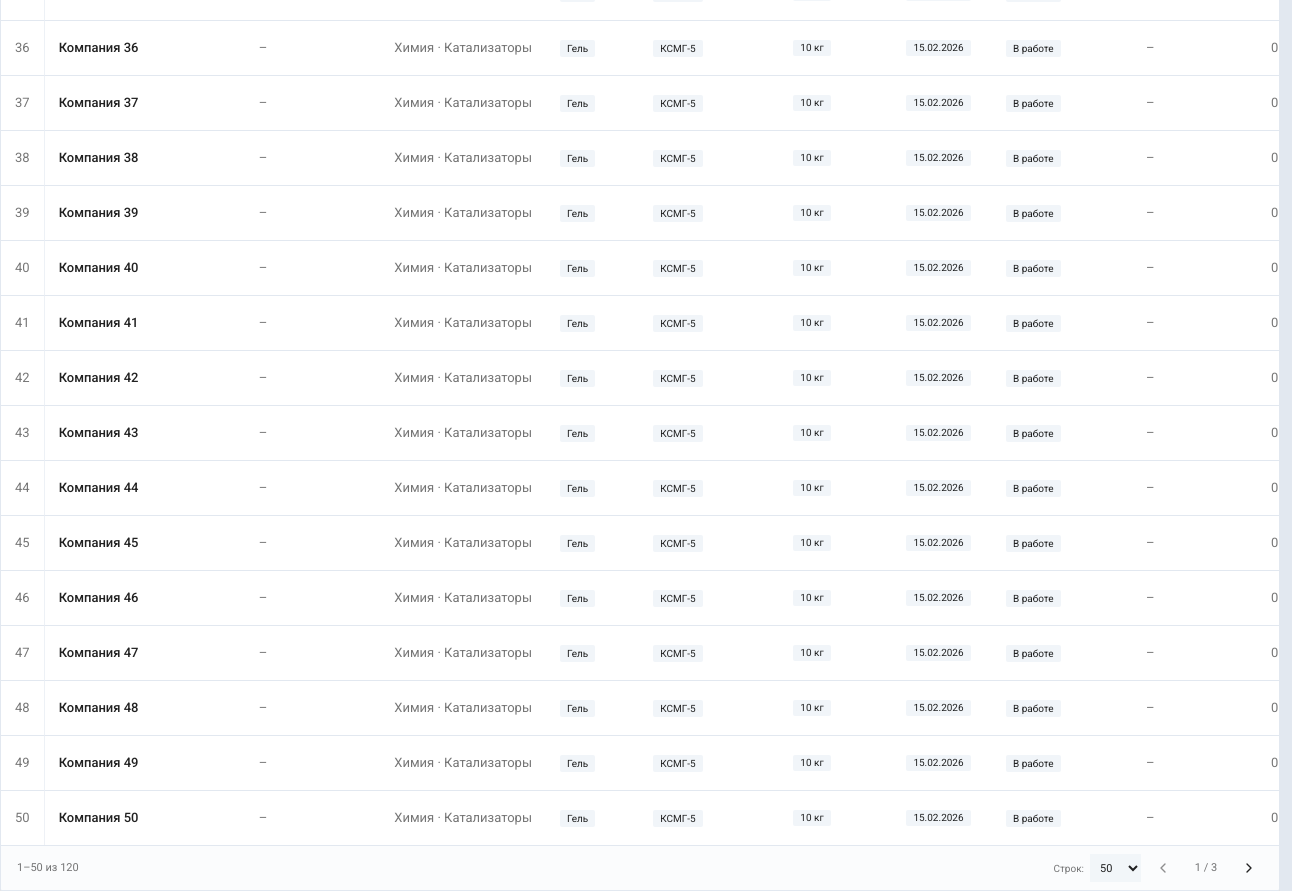
Test: Samples Client Pagination & Invariants › navigates to next page with continuous row numbering (51..100)
This screenshot has width=1292, height=891.
(page scrolled)
Click the button named "Следующая страница" at [1249, 868], box [1235,854,1263,882]
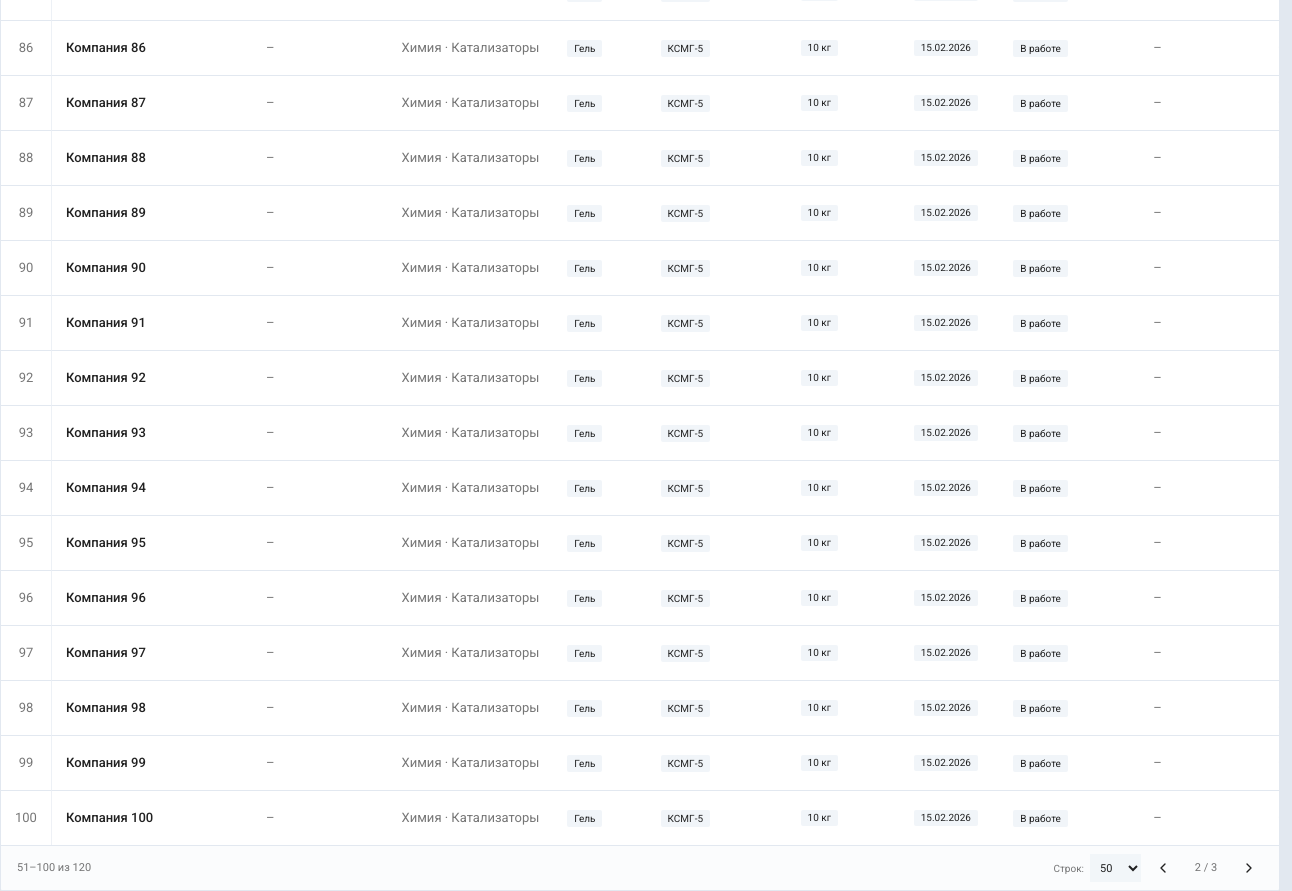
Expected: the cell "100" is shown, [1,791,52,845]
Expected: the text "51–100 из 120" is shown, [17,860,91,876]
Expected: the text "2 / 3" is shown, [1195,861,1217,874]
